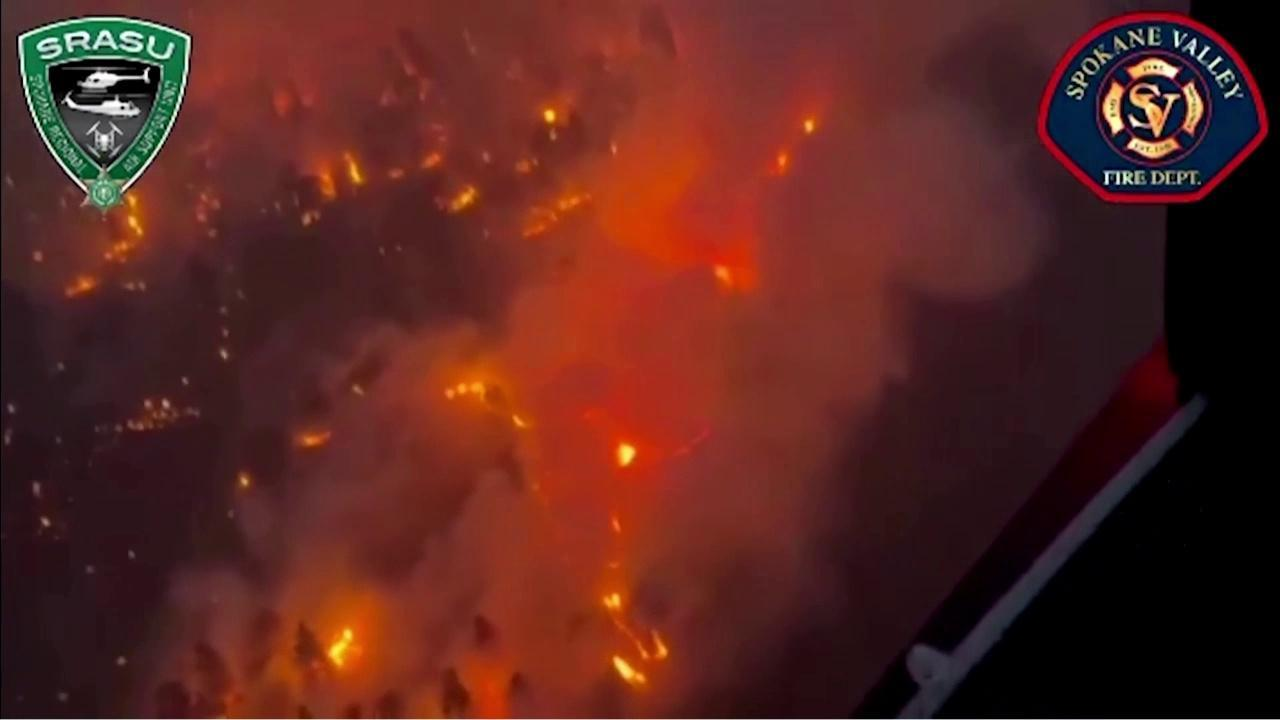fire: (106, 393, 202, 437), (524, 190, 591, 240), (103, 191, 144, 266), (613, 616, 676, 661), (667, 421, 715, 459), (609, 652, 649, 691), (322, 624, 355, 668), (440, 380, 488, 402), (442, 184, 478, 213), (63, 275, 98, 304), (311, 171, 337, 202), (297, 428, 333, 450), (713, 262, 737, 291), (615, 440, 638, 470), (346, 151, 365, 185), (607, 511, 626, 536), (602, 590, 622, 613), (420, 152, 445, 170), (512, 155, 539, 171), (511, 409, 529, 431), (349, 382, 366, 403), (301, 211, 324, 226), (799, 114, 815, 135), (384, 167, 405, 181), (30, 477, 42, 500), (542, 108, 560, 123), (775, 152, 788, 171), (40, 517, 55, 533), (238, 473, 252, 488), (217, 349, 232, 362), (178, 373, 190, 388)
smoke: (3, 0, 1110, 718)
